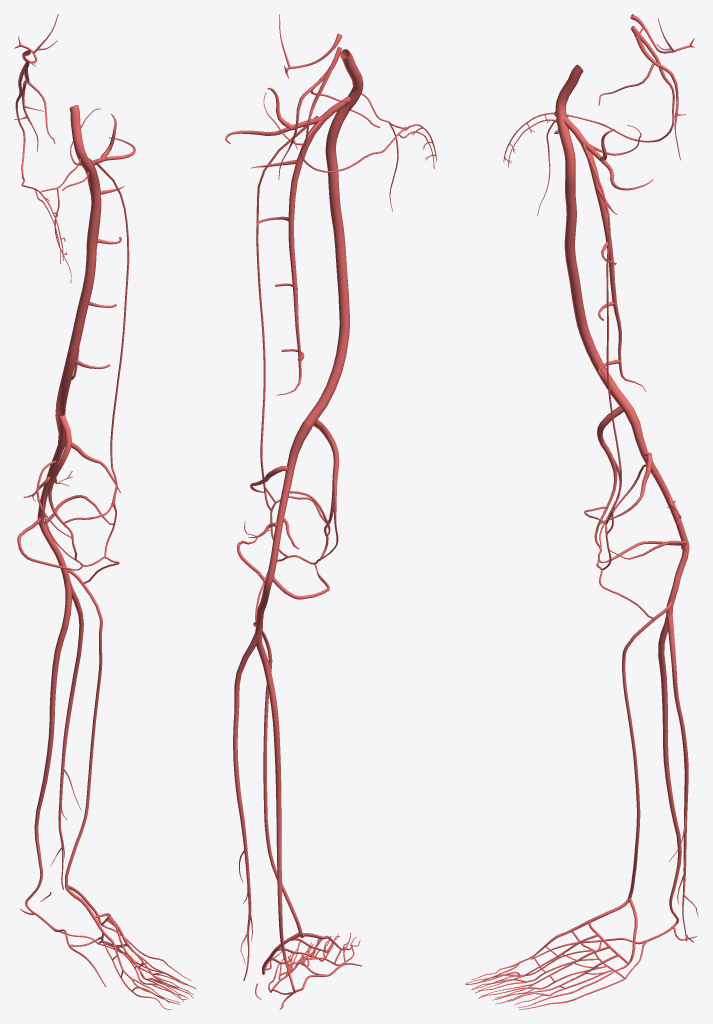
Rendered from arteries.glb.
The picture shows the model from 3 angles, left to right: view 1: azimuth 30°, elevation 25°; view 2: azimuth 150°, elevation 25°; view 3: azimuth 270°, elevation 25°; orthographic projection. The views are drawn at different scales.
Visible parts, largest first — view 1: Femoral artery.l.001, Posterior tibial artery.l.001, Fibular artery.l.001, Anterior tibial artery.l.001, Superior medial genicular artery.l.001, Popliteal artery.l.001, Descending branch of lateral circumflex femoral artery.l.001, Patellar anastomosis.l.001, Dorsal digital arteries of foot.l.001, Proper plantar digital arteries.l.001, Dorsal metatarsal arteries.l.001, Lateral circumflex femoral artery.l.001; view 2: Femoral artery.l.001, Posterior tibial artery.l.001, Popliteal artery.l.001, Fibular artery.l.001, Deep femoral artery.l.001, Anterior tibial artery.l.001, Descending branch of lateral circumflex femoral artery.l.001, Superior medial genicular artery.l.001, Patellar anastomosis.l.001, Lateral circumflex femoral artery.l.001, Internal pudendal artery.l.001; view 3: Femoral artery.l.001, Posterior tibial artery.l.001, Fibular artery.l.001, Popliteal artery.l.001, Deep femoral artery.l.001, Anterior tibial artery.l.001, Descending branch of lateral circumflex femoral artery.l.001, Superior medial genicular artery.l.001, Proper plantar digital arteries.l.001, Dorsal digital arteries of foot.l.001, Patellar anastomosis.l.001, Dorsal metatarsal arteries.l.001.
Part boxes in pixels (box(x1,y1,x2,y2)): Femoral artery.l.001: box(55, 105, 101, 419); Posterior tibial artery.l.001: box(25, 580, 71, 926); Fibular artery.l.001: box(50, 581, 83, 889); Anterior tibial artery.l.001: box(65, 570, 102, 886); Superior medial genicular artery.l.001: box(36, 415, 74, 559); Popliteal artery.l.001: box(37, 415, 69, 582); Descending branch of lateral circumflex femoral artery.l.001: box(94, 161, 129, 468); Patellar anastomosis.l.001: box(62, 468, 119, 583); Dorsal digital arteries of foot.l.001: box(101, 924, 195, 1002); Proper plantar digital arteries.l.001: box(99, 943, 196, 1009); Dorsal metatarsal arteries.l.001: box(106, 914, 152, 978); Lateral circumflex femoral artery.l.001: box(92, 114, 135, 165); Femoral artery.l.001: box(303, 49, 363, 426); Posterior tibial artery.l.001: box(256, 635, 300, 993); Popliteal artery.l.001: box(255, 422, 311, 635); Fibular artery.l.001: box(233, 633, 259, 980); Deep femoral artery.l.001: box(276, 96, 350, 395); Anterior tibial artery.l.001: box(253, 622, 302, 933); Descending branch of lateral circumflex femoral artery.l.001: box(256, 115, 317, 474); Superior medial genicular artery.l.001: box(281, 420, 339, 559); Patellar anastomosis.l.001: box(255, 474, 328, 621); Lateral circumflex femoral artery.l.001: box(225, 87, 323, 143); Internal pudendal artery.l.001: box(300, 47, 341, 172); Femoral artery.l.001: box(555, 64, 633, 413); Posterior tibial artery.l.001: box(647, 614, 681, 941); Fibular artery.l.001: box(666, 615, 698, 941); Popliteal artery.l.001: box(625, 408, 689, 615); Deep femoral artery.l.001: box(563, 116, 645, 391); Anterior tibial artery.l.001: box(622, 602, 672, 898); Descending branch of lateral circumflex femoral artery.l.001: box(582, 143, 621, 496); Superior medial genicular artery.l.001: box(597, 406, 654, 548); Proper plantar digital arteries.l.001: box(465, 971, 625, 1009); Dorsal digital arteries of foot.l.001: box(466, 961, 628, 1007); Patellar anastomosis.l.001: box(584, 496, 654, 619); Dorsal metatarsal arteries.l.001: box(520, 934, 618, 985).
Size of the model in its own units: 0.1435 by 0.9469 by 0.2087.
